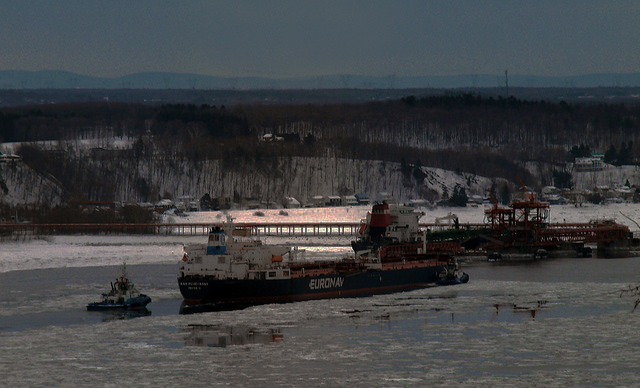tanker: (179, 230, 451, 305)
tug_boat: (83, 266, 149, 308), (433, 259, 475, 281)
